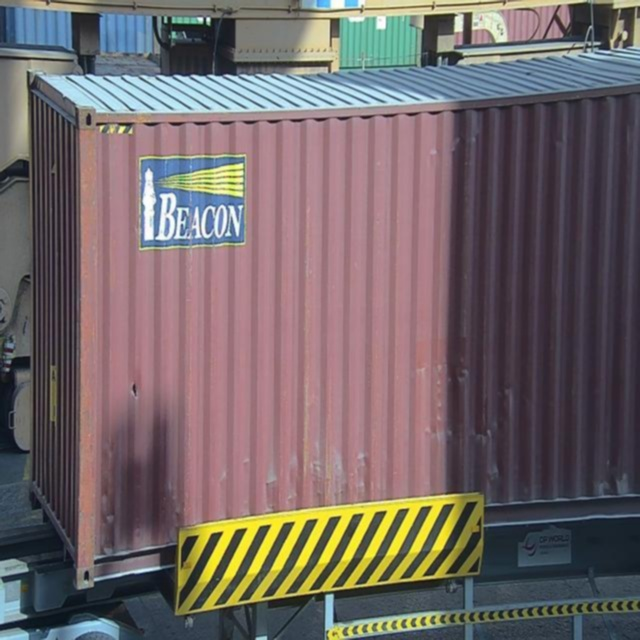Dent: (475, 407, 505, 485)
Hole: (123, 370, 151, 421)
